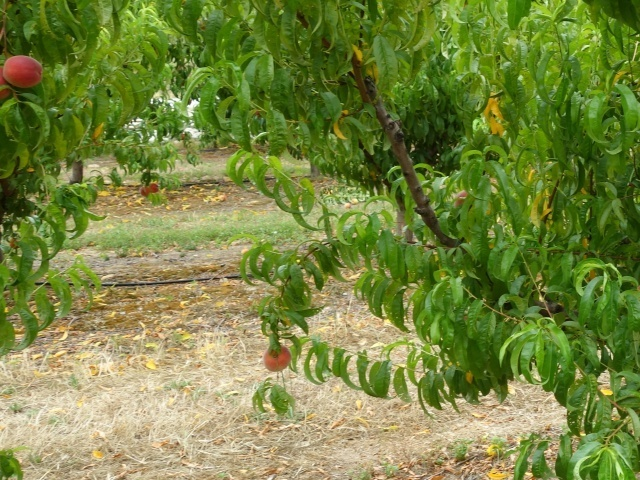peach: (2, 51, 46, 89), (262, 342, 295, 375), (450, 187, 474, 214)
